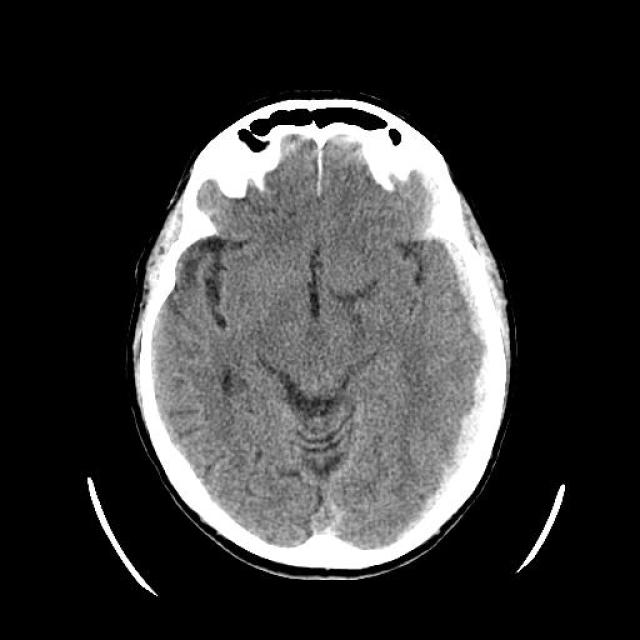Subdural: (425, 247, 531, 538)
